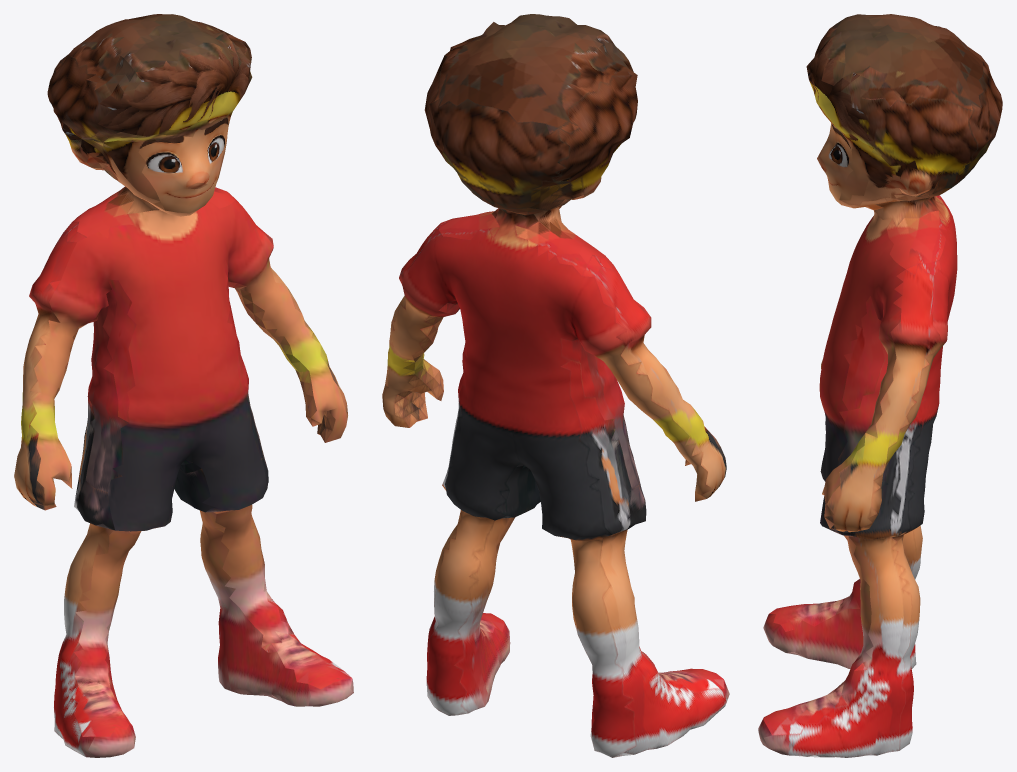
File: muscle-toon.glb
The picture shows the model from 3 angles, left to right: view 1: azimuth 30°, elevation 25°; view 2: azimuth 150°, elevation 25°; view 3: azimuth 270°, elevation 25°; orthographic projection. The views are drawn at different scales.
Parts seen in each view (by area): view 1: world; view 2: world; view 3: world.
Boxes of the visible parts, bbox=[...] form: world: bbox=[14, 14, 353, 757]; world: bbox=[382, 14, 729, 757]; world: bbox=[758, 14, 1002, 757].
Size of the model in its own units: 0.464 by 0.9391 by 0.3062.
1 material, 1 textured.
